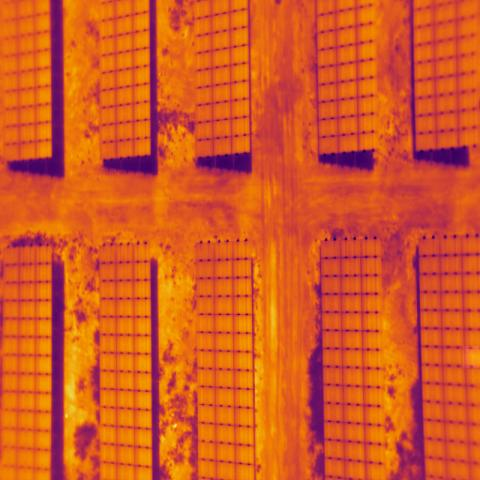fault: (463, 346, 480, 368)
